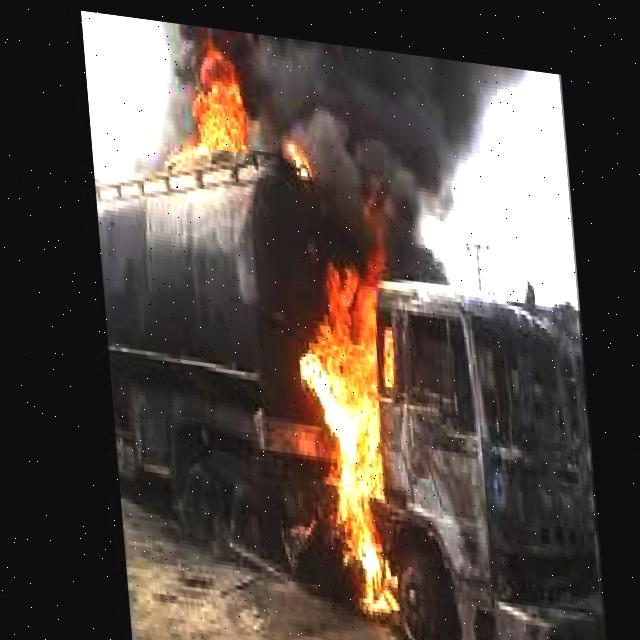Fire: (282, 226, 428, 632), (173, 30, 264, 160), (274, 116, 326, 193)
